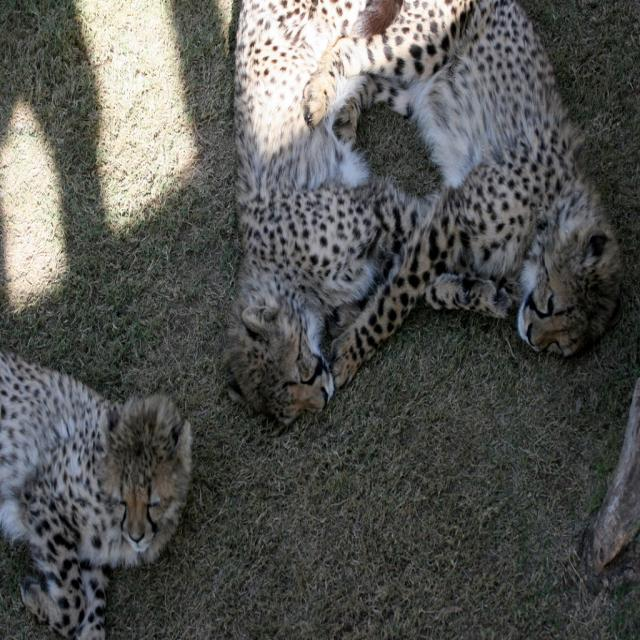Cheetah: (289, 0, 626, 389), (227, 0, 512, 427), (0, 346, 194, 639)
